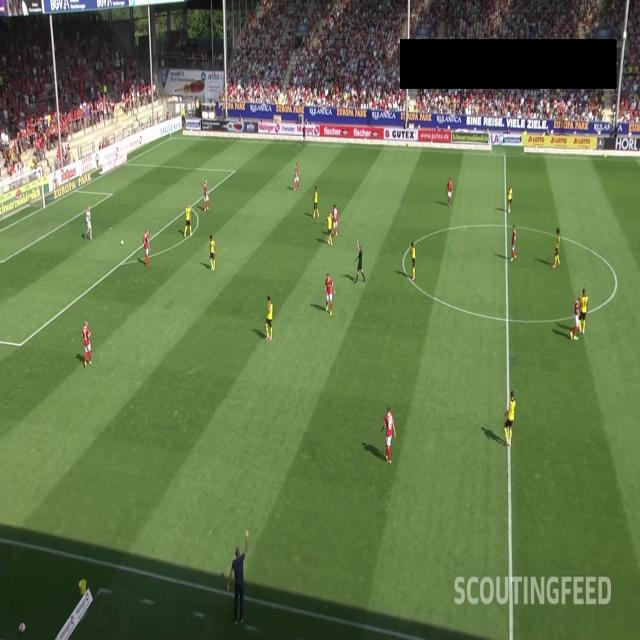ball: (120, 232, 125, 249)
player: (572, 294, 583, 340), (83, 320, 94, 363), (324, 272, 336, 311), (506, 389, 514, 444), (386, 406, 394, 458), (510, 226, 520, 266), (264, 296, 273, 340), (142, 229, 152, 267), (409, 239, 418, 280), (553, 223, 561, 269), (184, 204, 194, 240), (201, 176, 211, 210), (325, 208, 334, 245), (582, 289, 588, 334), (86, 207, 94, 240), (209, 237, 217, 269), (313, 182, 320, 215), (292, 160, 300, 188), (506, 187, 514, 213), (445, 176, 453, 202), (334, 203, 339, 231)
